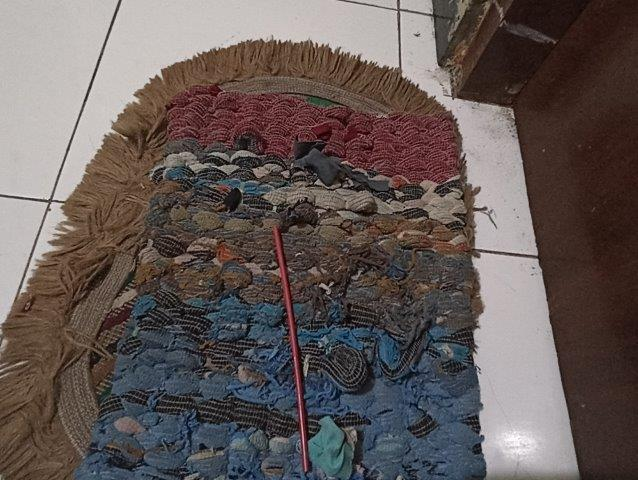sedotan: (273, 228, 310, 470)
